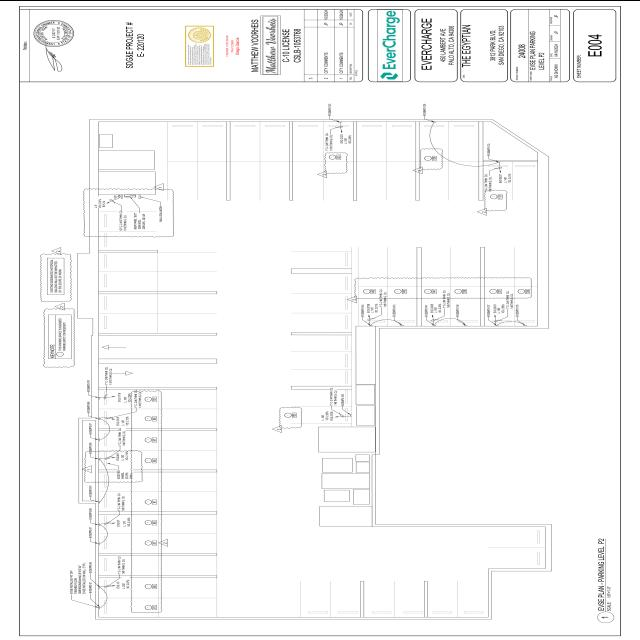evse: (332, 117, 349, 125), (490, 158, 506, 164), (428, 118, 442, 124), (491, 322, 505, 327), (96, 536, 102, 547), (97, 516, 102, 528), (96, 452, 102, 462), (518, 323, 532, 327), (430, 322, 441, 327), (97, 392, 102, 402), (349, 409, 354, 419), (460, 322, 472, 326), (397, 323, 409, 327), (97, 495, 102, 504), (97, 433, 101, 443), (366, 323, 376, 327), (98, 412, 101, 422), (98, 582, 101, 590), (98, 603, 101, 610)
gfi: (117, 193, 121, 197)
panel: (124, 192, 137, 196)
